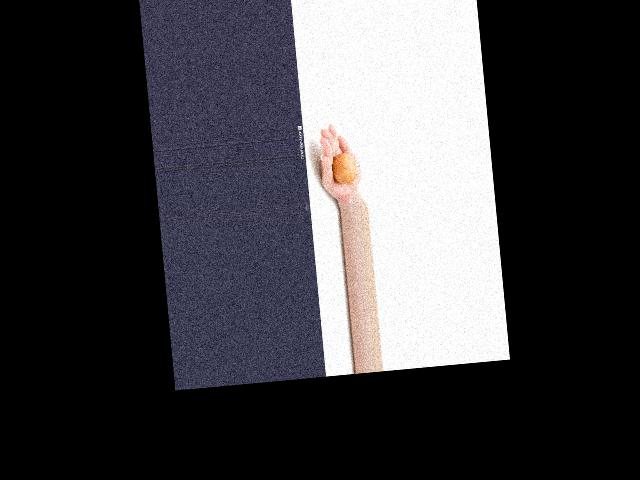egg: (331, 152, 358, 186)
